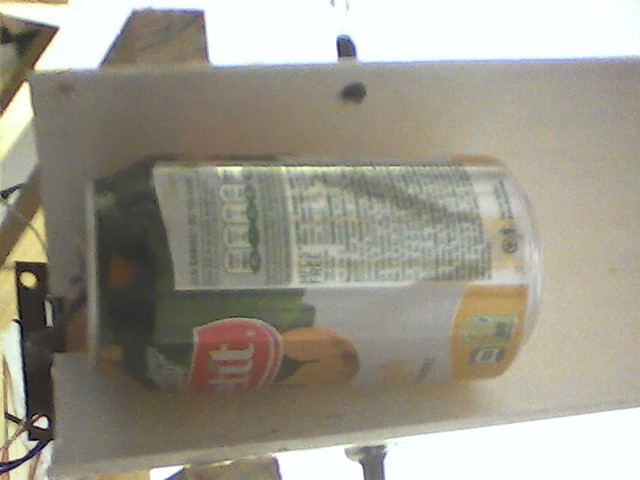lata: (77, 143, 550, 404)
